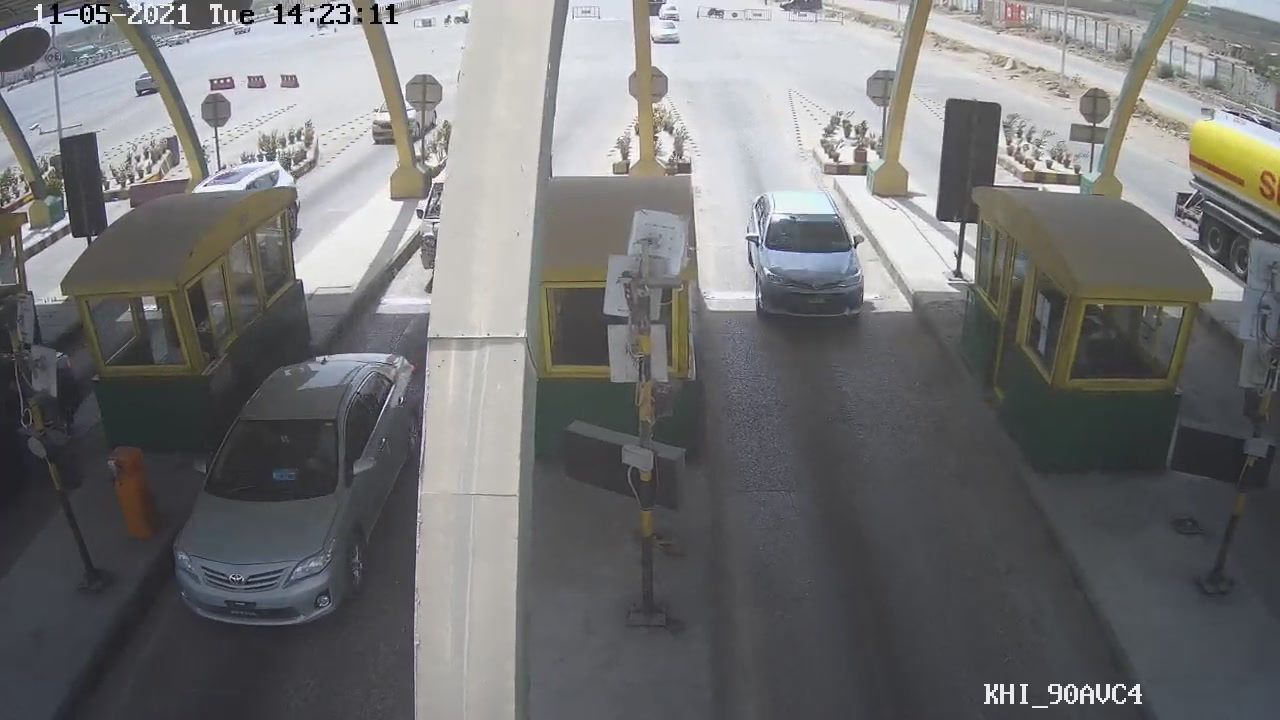F1: (738, 187, 872, 330)
